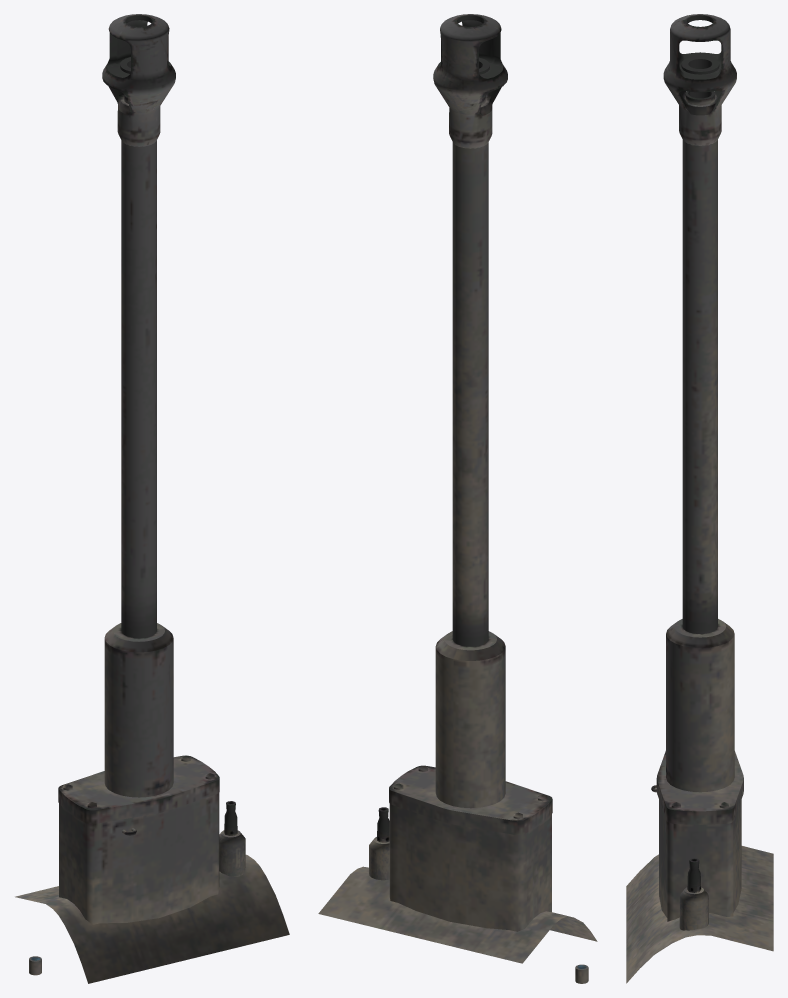
The model's file is Gun_01.glb.
3 views of the same model, side by side, from view 1: azimuth 30°, elevation 25°; view 2: azimuth 150°, elevation 25°; view 3: azimuth 270°, elevation 25° (orthographic). The views are drawn at different scales.
Parts seen in each view (by area): view 1: set_0_group_0; view 2: set_0_group_0; view 3: set_0_group_0.
Part boxes in pixels (box(x1,y1,x2,y2)): set_0_group_0: box(15, 14, 289, 983); set_0_group_0: box(318, 14, 597, 983); set_0_group_0: box(626, 14, 773, 983).
Size of the model in its own units: 0.858 by 3.35 by 0.4883.
1 material, 1 textured.
